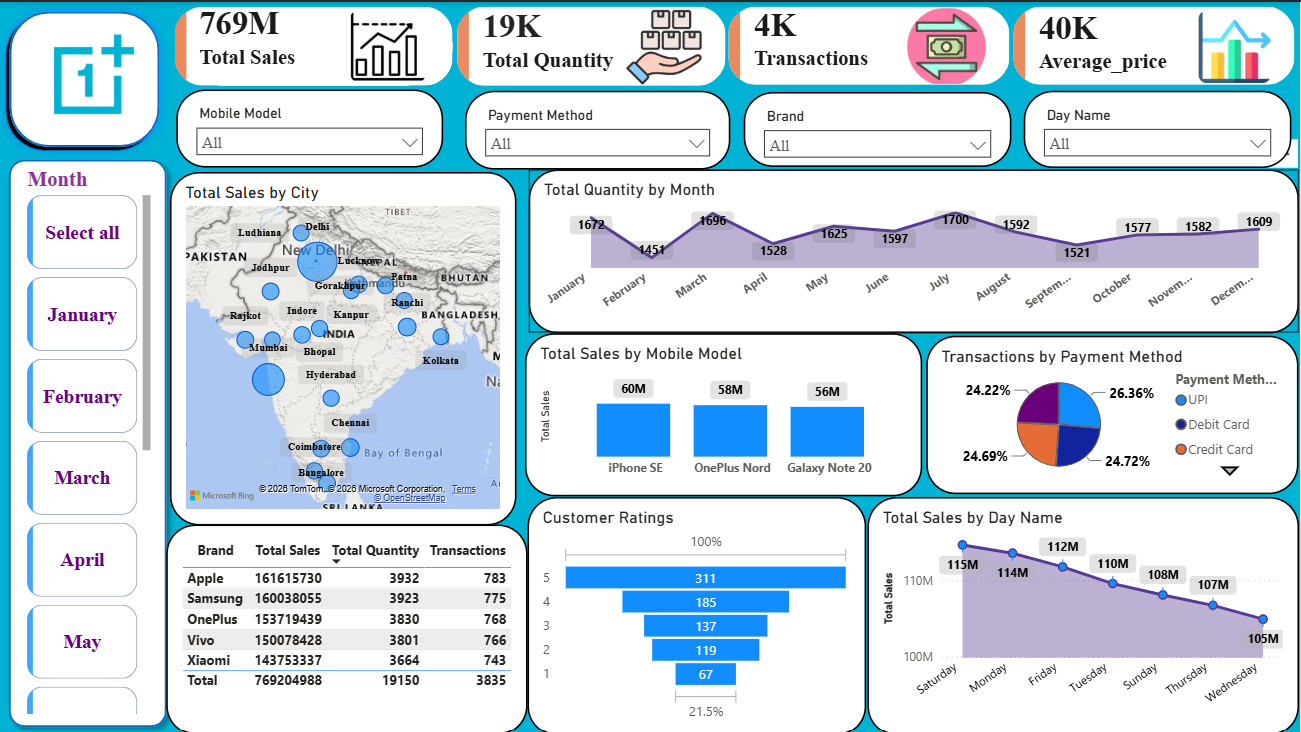

Layout of this report page (visuals, bound fields, positions):
{"tool":"powerbi","page":{"name":"Page 1","canvas":[1333,752],"ordinal":0},"visuals":[{"type":"shape","box":[0,0,173.3,158.3],"z":0},{"type":"image","box":[0,0,180,158.3],"z":1000},{"type":"shape","box":[0,152.5,180,600],"z":2000},{"type":"cardVisual","fields":{"Data":["Sales data.Total Sales"]},"box":[174.3,0,295,91.2],"z":3000},{"type":"cardVisual","fields":{"Data":["Sales data.Transactions"]},"box":[742,0,298.6,91],"z":4000},{"type":"advancedSlicerVisual","fields":{"Values":["Sales data.Date.Variation.Date Hierarchy.Month"]},"box":[23.1,169.2,136.7,566.7],"z":5000},{"type":"cardVisual","fields":{"Data":["Sales data.Average_price"]},"box":[1034.2,0,298.6,91],"z":6000},{"type":"cardVisual","fields":{"Data":["Sales data.Total Quantity"]},"box":[463.9,0,285,91.2],"z":7000},{"type":"map","fields":{"Category":["Sales data.City"],"Size":["Sales data.Total Sales"]},"box":[173.8,173.8,355,362.5],"z":8000},{"type":"lineChart","fields":{"Category":["Sales data.Date.Variation.Date Hierarchy.Month","Sales data.Date.Variation.Date Hierarchy.Day"],"Y":["Sales data.Total Quantity"]},"box":[542.1,171.7,789.4,167.9],"z":9000},{"type":"clusteredColumnChart","fields":{"Category":["Sales data.Mobile Model"],"Y":["Sales data.Total Sales"]},"box":[538.8,340,407.5,167.5],"z":10000},{"type":"pieChart","fields":{"Category":["Sales data.Payment Method"],"Y":["Sales data.Transactions"]},"box":[949.6,342.2,381.9,162.8],"z":11000},{"type":"funnel","title":" Customer Ratings","fields":{"Category":["Sales data.Customer Ratings"],"Y":["CountNonNull(Sales data.Customer Ratings)"]},"box":[540.8,507.5,347.3,244.8],"z":12000},{"type":"areaChart","fields":{"Category":["Sales data.Day Name"],"Y":["Sales data.Total Sales"]},"box":[889.4,507.5,442.1,244.8],"z":13000},{"type":"tableEx","fields":{"Values":["Sales data.Brand","Sales data.Total Sales","Sales data.Total Quantity","Sales data.Transactions"]},"box":[170,536.2,370,216.2],"z":14000},{"type":"slicer","fields":{"Values":["Sales data.Mobile Model"]},"box":[181.2,90,273.8,80],"z":15000},{"type":"slicer","fields":{"Values":["Sales data.Payment Method"]},"box":[476.7,91,271.7,80.7],"z":16000},{"type":"slicer","fields":{"Values":["Sales data.Brand"]},"box":[762.5,92.3,274.2,76.9],"z":17000},{"type":"slicer","fields":{"Values":["Sales data.Day Name"]},"box":[1049.6,91,274.2,79.5],"z":18000}]}

Visuals, with their boxes in screenshot pixels (x1, y1, x2, y2), scaled from the page's 1333x752 canvas onto the 1301x732 screenshot:
shape: (left=0, top=0, right=169, bottom=154)
image: (left=0, top=0, right=176, bottom=154)
shape: (left=0, top=148, right=176, bottom=731)
cardVisual - Sales data.Total Sales: (left=170, top=0, right=458, bottom=89)
cardVisual - Sales data.Transactions: (left=724, top=0, right=1016, bottom=89)
advancedSlicerVisual - Sales data.Date.Variation.Date Hierarchy.Month: (left=23, top=165, right=156, bottom=716)
cardVisual - Sales data.Average_price: (left=1009, top=0, right=1300, bottom=89)
cardVisual - Sales data.Total Quantity: (left=453, top=0, right=731, bottom=89)
map - Sales data.City x Sales data.Total Sales: (left=170, top=169, right=516, bottom=522)
lineChart - Sales data.Date.Variation.Date Hierarchy.Month x Sales data.Date.Variation.Date Hierarchy.Day: (left=529, top=167, right=1300, bottom=331)
clusteredColumnChart - Sales data.Mobile Model x Sales data.Total Sales: (left=526, top=331, right=924, bottom=494)
pieChart - Sales data.Payment Method x Sales data.Transactions: (left=927, top=333, right=1300, bottom=492)
" Customer Ratings" funnel: (left=528, top=494, right=867, bottom=731)
areaChart - Sales data.Day Name x Sales data.Total Sales: (left=868, top=494, right=1300, bottom=731)
tableEx - Sales data.Brand x Sales data.Total Sales: (left=166, top=522, right=527, bottom=731)
slicer - Sales data.Mobile Model: (left=177, top=88, right=444, bottom=165)
slicer - Sales data.Payment Method: (left=465, top=89, right=730, bottom=167)
slicer - Sales data.Brand: (left=744, top=90, right=1012, bottom=165)
slicer - Sales data.Day Name: (left=1024, top=89, right=1292, bottom=166)
